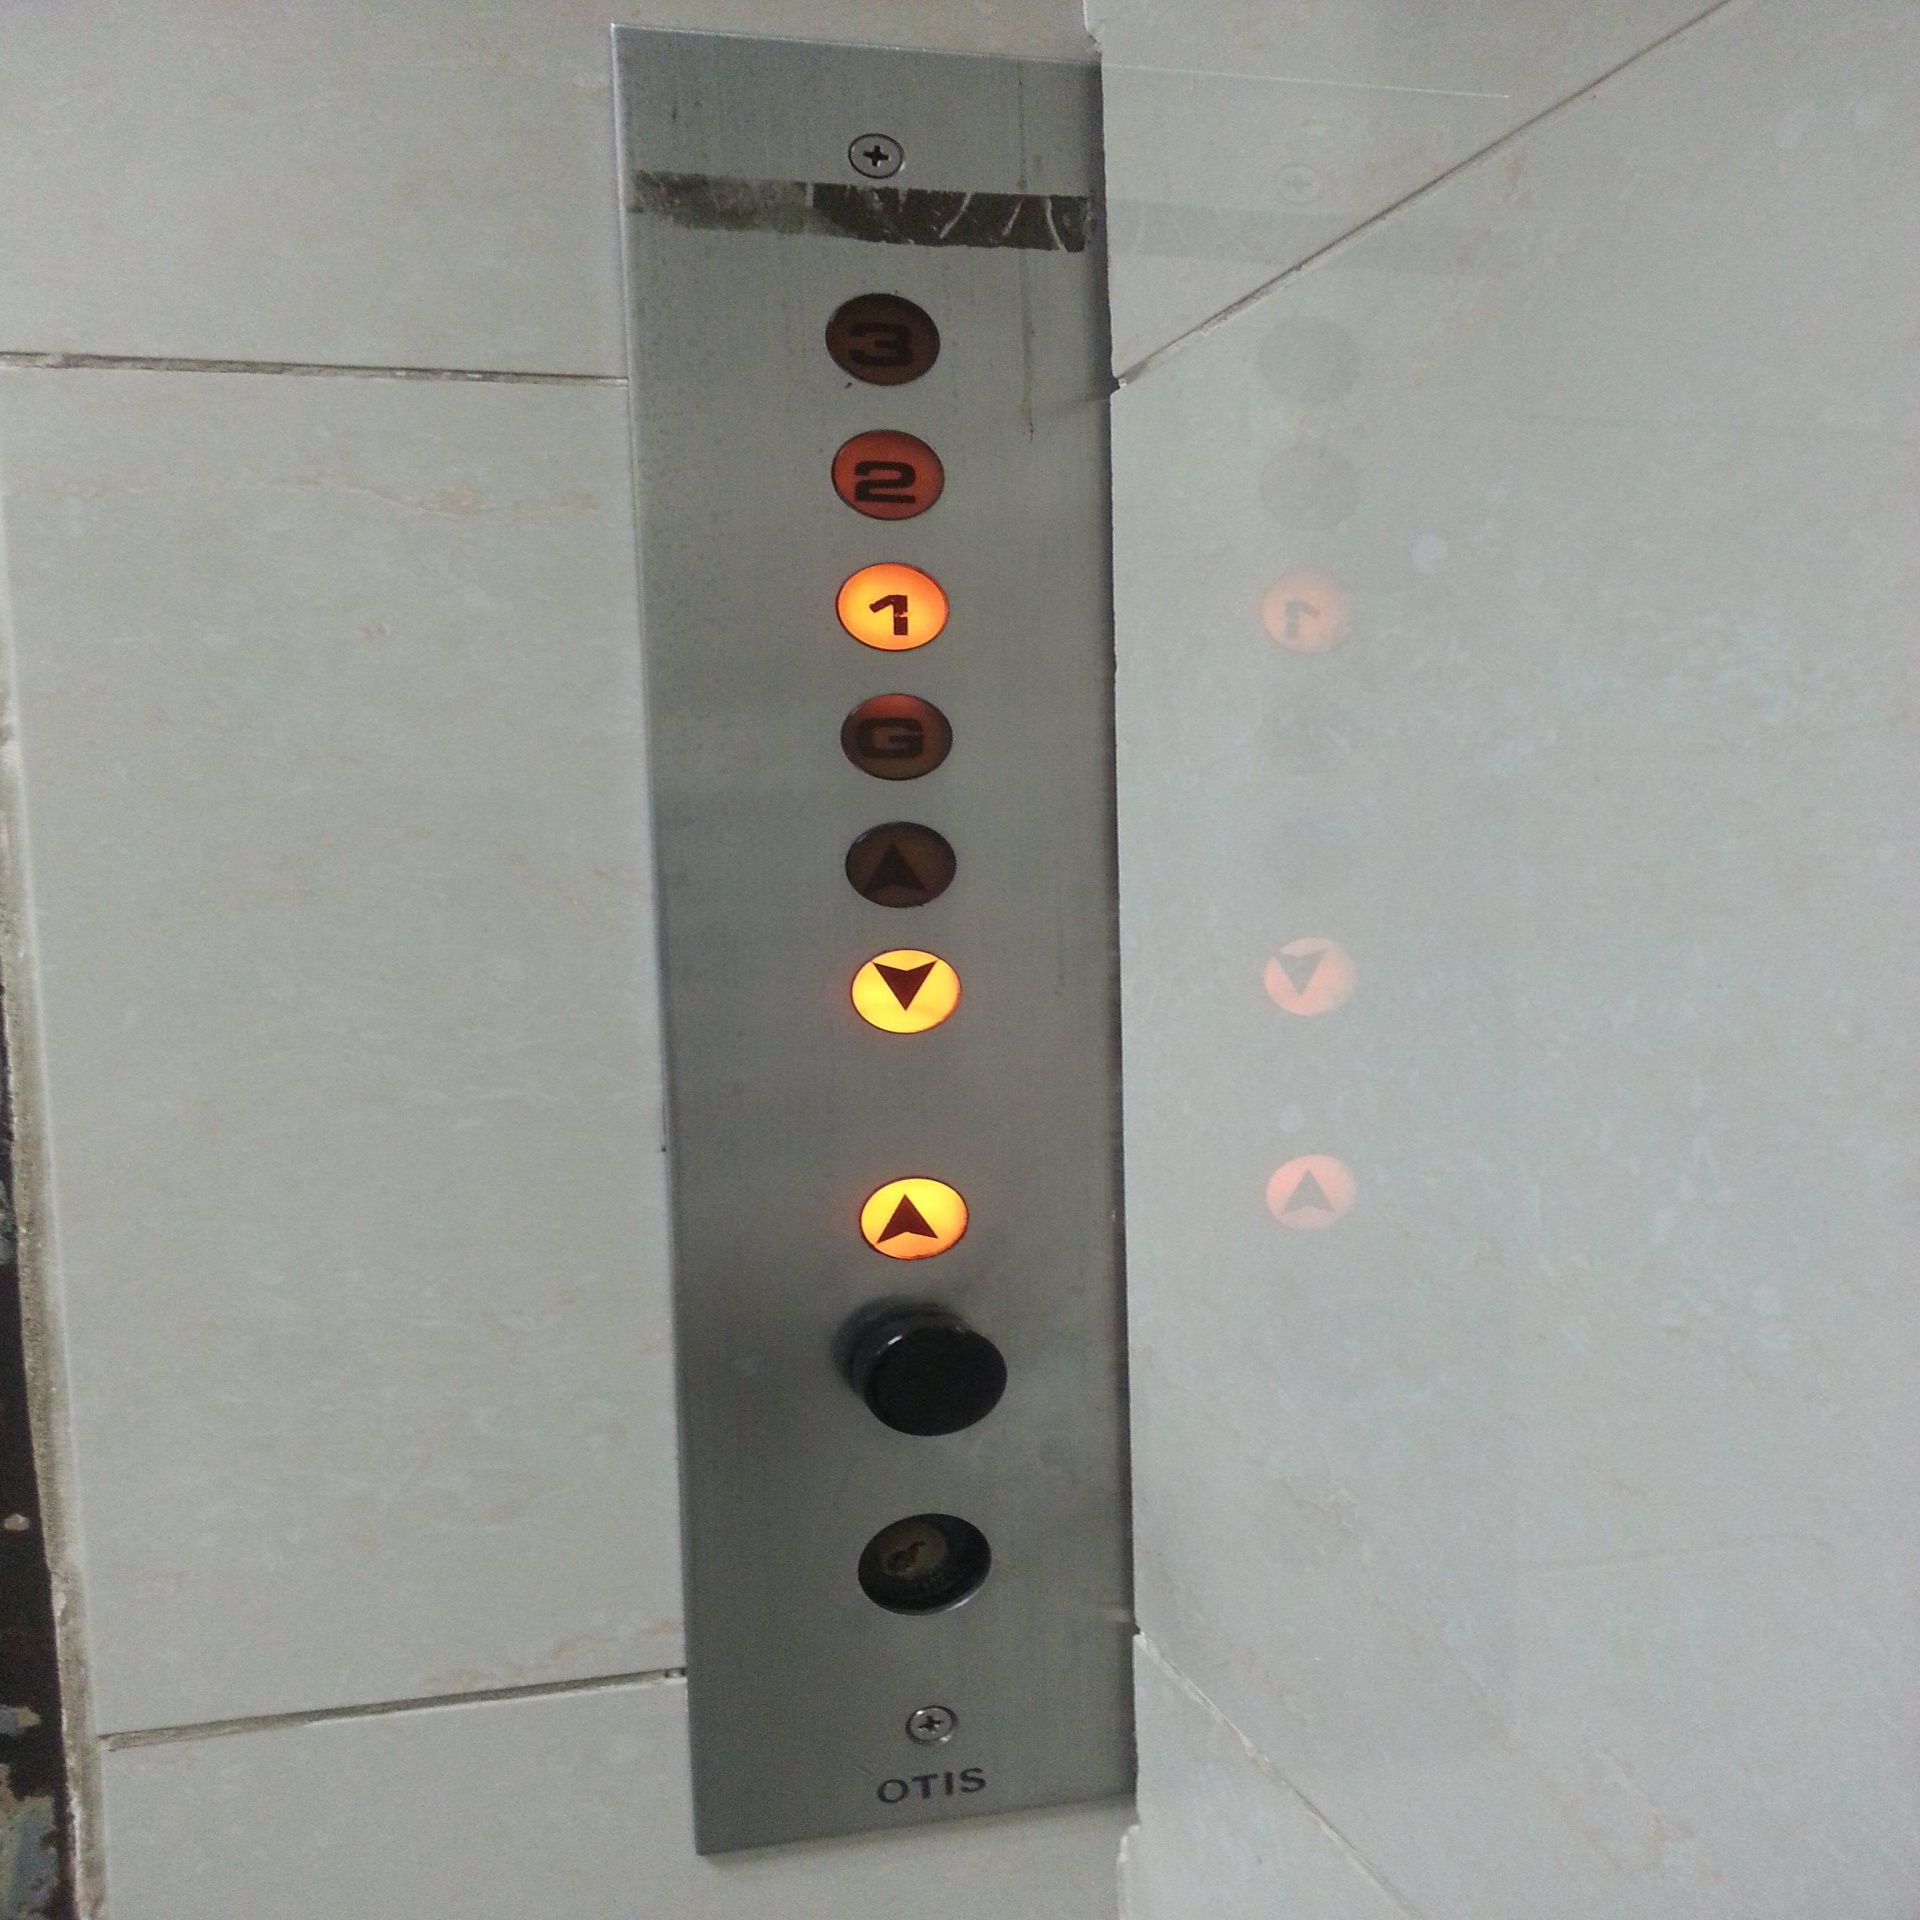1: (835, 559, 948, 654)
2: (826, 424, 951, 526)
3: (816, 288, 942, 390)
G: (835, 687, 964, 789)
down: (840, 941, 964, 1043), (1259, 932, 1361, 1020)
empty: (842, 1308, 1007, 1442)
keyhole: (851, 1503, 1006, 1625)
unknown: (1255, 566, 1359, 658)
up: (839, 816, 965, 913), (856, 1175, 978, 1262), (1261, 1155, 1359, 1234)
